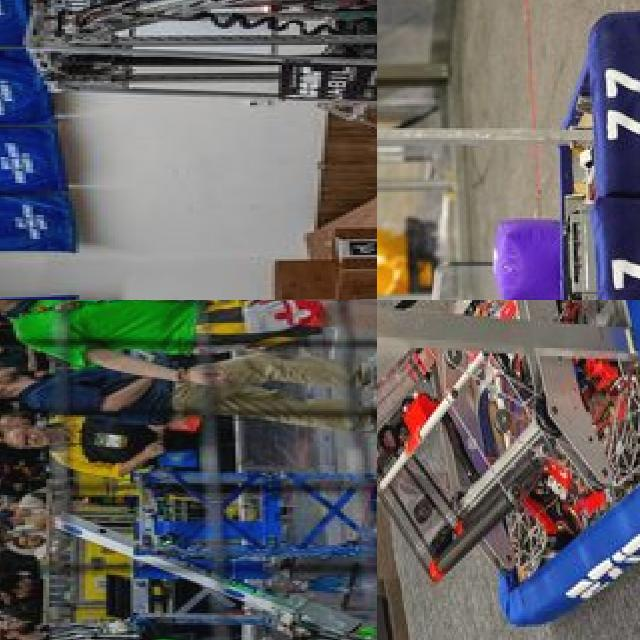FRC-Robots: (377, 300, 640, 640), (16, 415, 377, 640), (377, 0, 640, 300), (28, 0, 377, 168)
